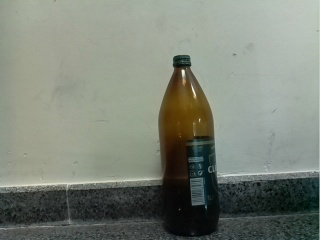pote cristal: (158, 55, 219, 237)
